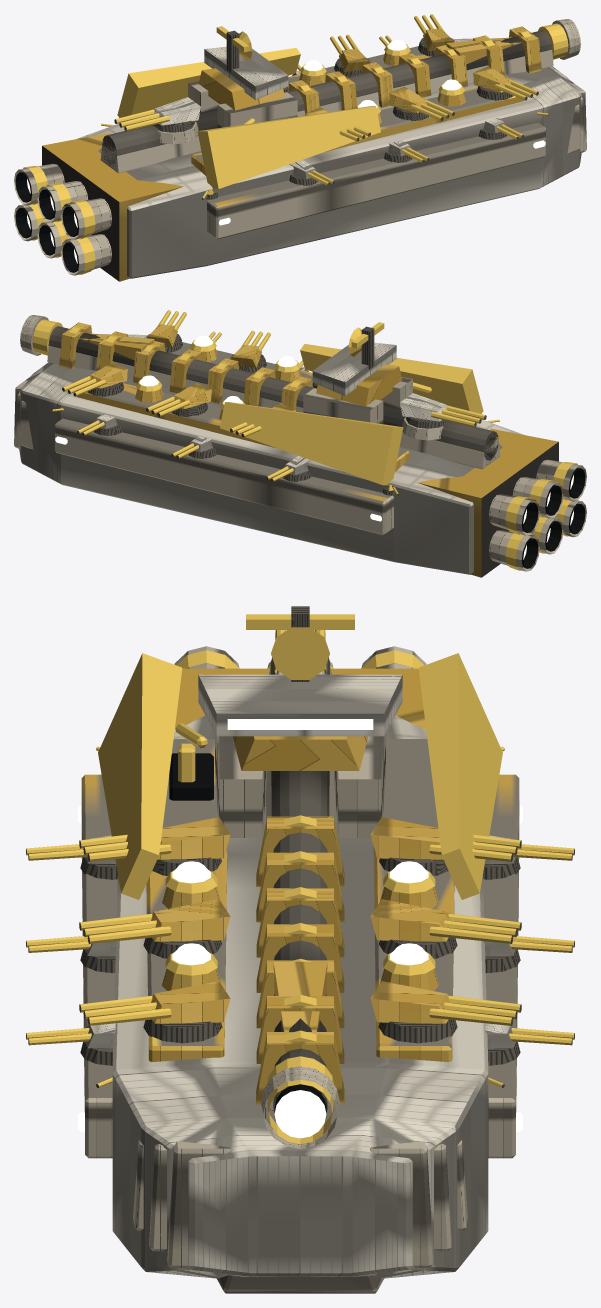
File: battleship.glb
The picture shows the model from 3 angles, top to bottom: view 1: azimuth 30°, elevation 25°; view 2: azimuth 150°, elevation 25°; view 3: azimuth 270°, elevation 25°; orthographic projection. The views are drawn at different scales.
Visible parts, largest first — view 1: hull_body, weapon_mounts, engine_block, sensor_tower, shield_domes; view 2: hull_body, weapon_mounts, engine_block, sensor_tower, shield_domes; view 3: hull_body, weapon_mounts, sensor_tower, shield_domes, engine_block.
Boxes of the visible parts, x1,y1,x2,y2 form: hull_body: [77, 37, 586, 278]; weapon_mounts: [100, 14, 580, 199]; engine_block: [14, 132, 183, 281]; sensor_tower: [188, 26, 297, 128]; shield_domes: [299, 39, 465, 123]; hull_body: [14, 333, 523, 574]; weapon_mounts: [20, 310, 500, 495]; engine_block: [417, 428, 586, 577]; sensor_tower: [303, 322, 412, 424]; shield_domes: [135, 335, 301, 419]; hull_body: [78, 653, 522, 1293]; weapon_mounts: [26, 630, 574, 1148]; sensor_tower: [198, 606, 402, 837]; shield_domes: [162, 861, 438, 990]; engine_block: [174, 646, 426, 728].
Bounding box in the file's own units: 60 × 20.69 × 27.18.
Materials: 1 (1 with a texture image).
